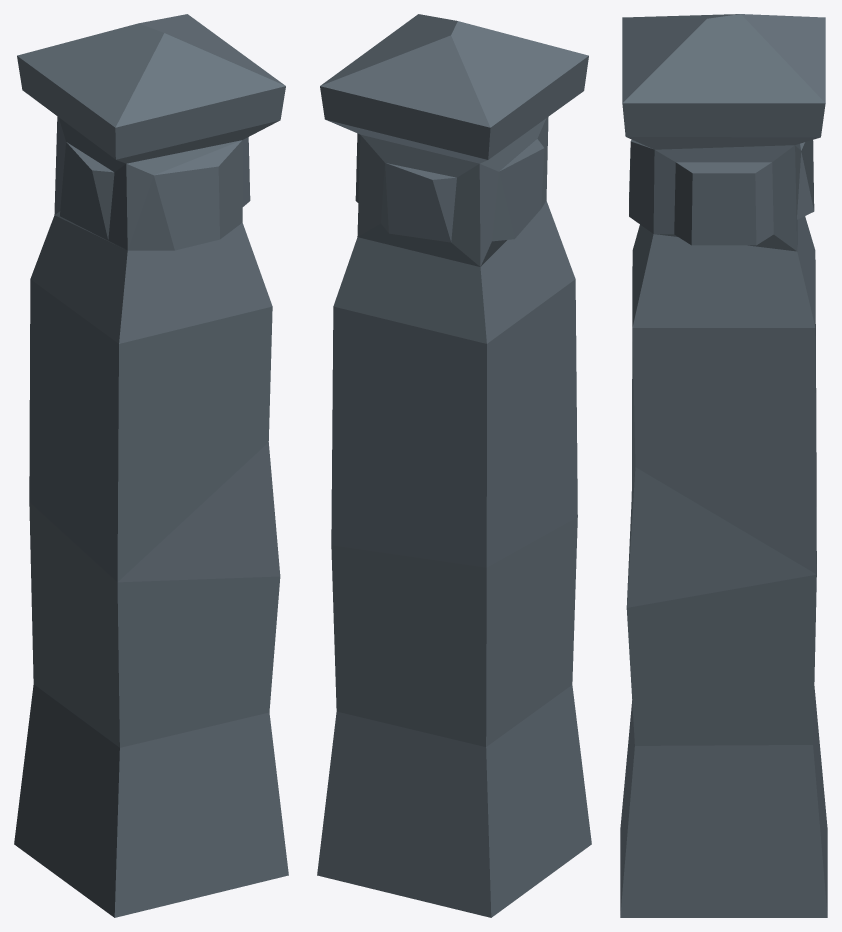
Rendered from statue_plzwork.fbx.
3 renders of one model, left to right at view 1: azimuth 30°, elevation 25°; view 2: azimuth 150°, elevation 25°; view 3: azimuth 270°, elevation 25°, orthographic. The views are drawn at different scales.
Visible parts, largest first — view 1: Cube; view 2: Cube; view 3: Cube.
Boxes of the visible parts, <box> form: Cube: <box>14,14,288,917</box>; Cube: <box>317,14,591,917</box>; Cube: <box>620,14,827,917</box>.
Size of the model in its own units: 237 by 1081 by 237.
